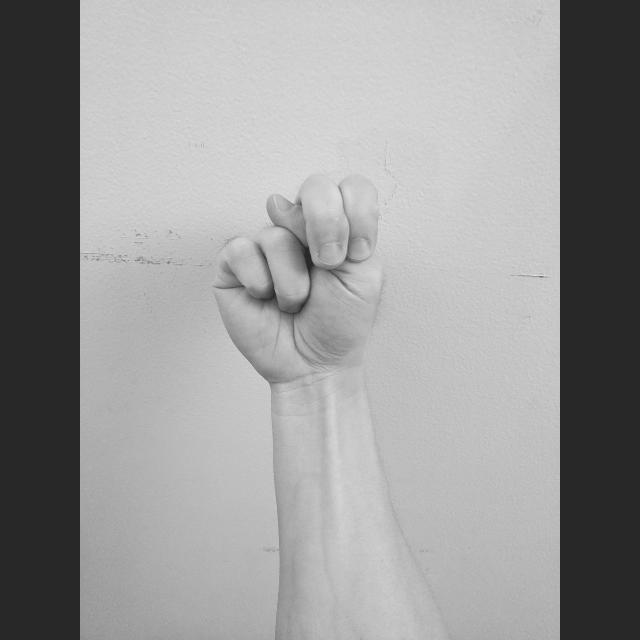N: (209, 170, 387, 390)
